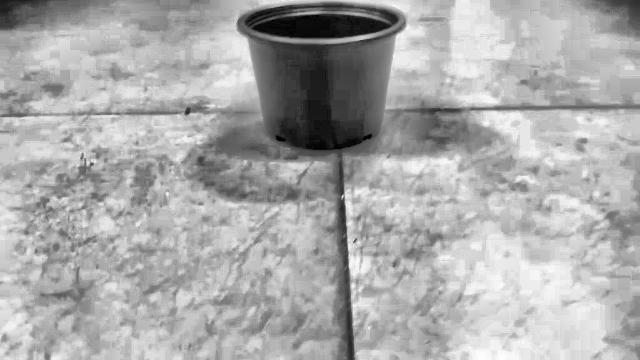pot: (237, 0, 406, 150)
